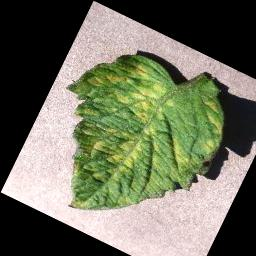Leaf_Mold: (18, 19, 245, 254)
